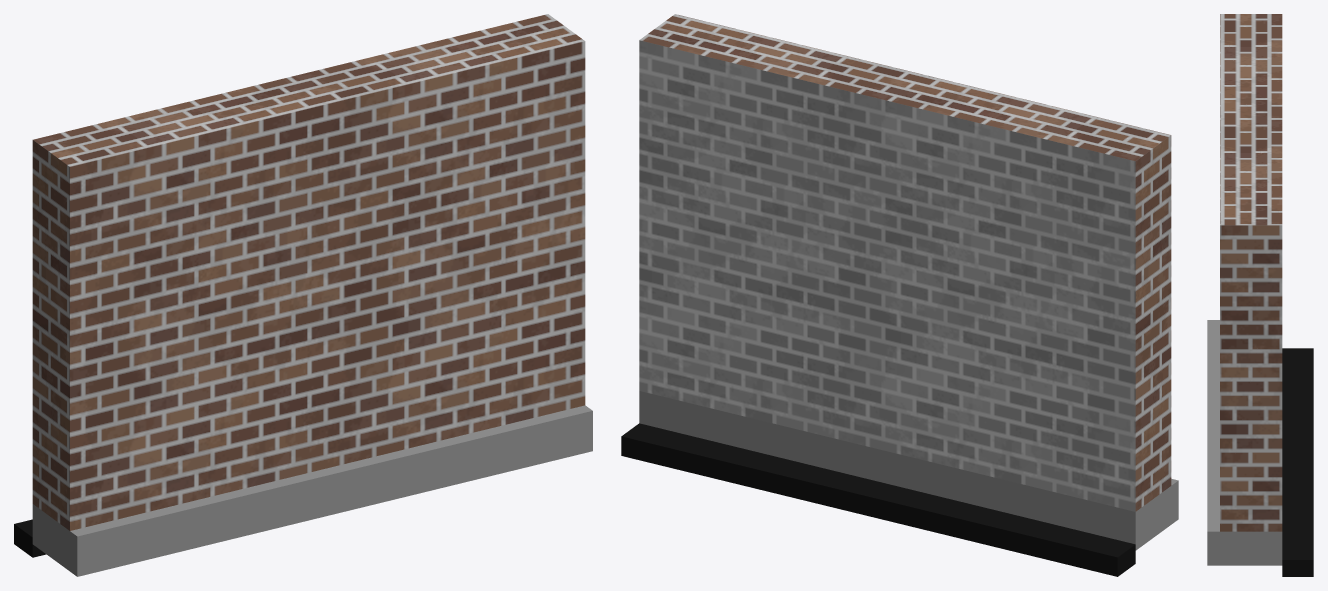
The model's file is Straight_Wall_004.FBX.
3 views of the same model, side by side, from view 1: azimuth 30°, elevation 25°; view 2: azimuth 150°, elevation 25°; view 3: azimuth 270°, elevation 25° (orthographic). The views are drawn at different scales.
Parts seen in each view (by area): view 1: Straight_Wall_004; view 2: Straight_Wall_004; view 3: Straight_Wall_004.
Part boxes in pixels (x1,y1,x2,y2): Straight_Wall_004: (14,14,592,576); Straight_Wall_004: (621,14,1178,576); Straight_Wall_004: (1207,14,1313,576).
Bounding box in the file's own units: 400 × 85 × 310.
